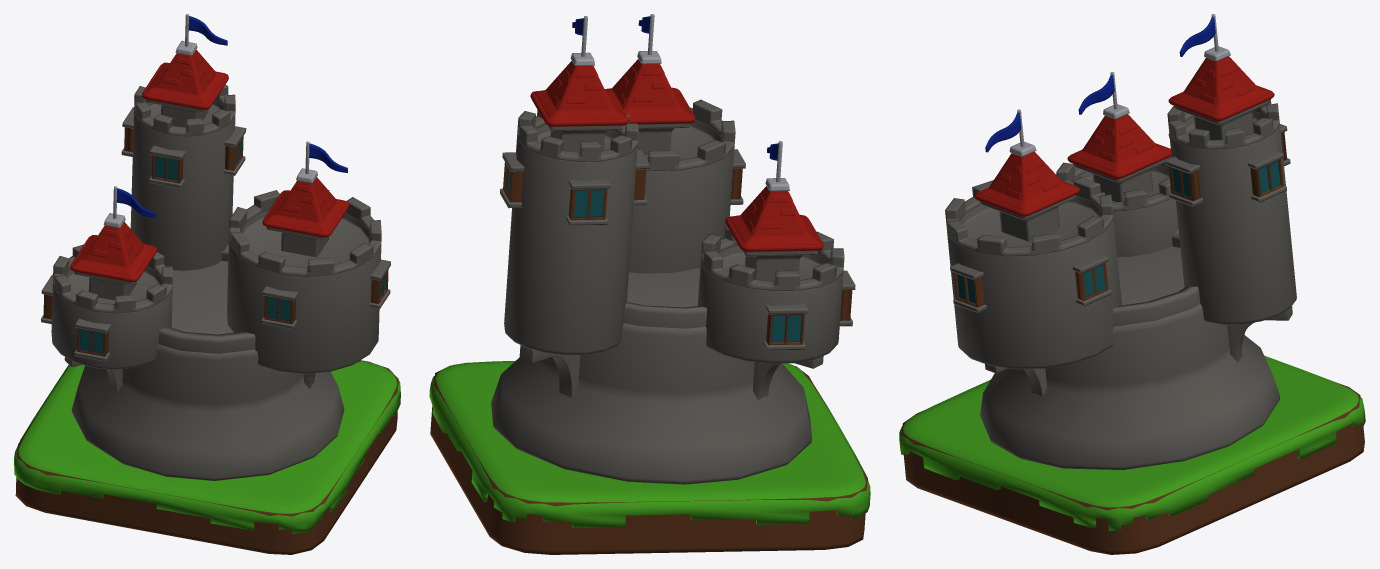
The model's file is castillo_letras.glb.
3 views of the same model, side by side, from view 1: azimuth 30°, elevation 25°; view 2: azimuth 150°, elevation 25°; view 3: azimuth 270°, elevation 25° (orthographic). The views are drawn at different scales.
Visible parts, largest first — view 1: Castle 9.030, Castle 9.020, Castle 9, Castle 9.001, Castle 9.016, Castle 9.011, Castle 9.006, Castle 9.027, Castle 9.005, Castle 9.029, Castle 9.022, Castle 9.010 (+7 smaller); view 2: Castle 9.030, Castle 9.020, Castle 9, Castle 9.001, Castle 9.016, Castle 9.011, Castle 9.006, Castle 9.027, Castle 9.029, Castle 9.010, Castle 9.019, Castle 9.015 (+6 smaller); view 3: Castle 9.030, Castle 9.020, Castle 9, Castle 9.001, Castle 9.006, Castle 9.016, Castle 9.011, Castle 9.005, Castle 9.010, Castle 9.027, Castle 9.029, Castle 9.015 (+6 smaller).
Boxes of the visible parts, left/top/right/bottom form: Castle 9.030: left=51, top=84, right=381, bottom=373; Castle 9.020: left=71, top=243, right=344, bottom=480; Castle 9: left=14, top=360, right=400, bottom=533; Castle 9.001: left=15, top=360, right=398, bottom=554; Castle 9.016: left=142, top=50, right=228, bottom=109; Castle 9.011: left=70, top=222, right=156, bottom=282; Castle 9.006: left=262, top=177, right=349, bottom=237; Castle 9.027: left=121, top=107, right=246, bottom=188; Castle 9.005: left=266, top=227, right=328, bottom=257; Castle 9.029: left=124, top=127, right=243, bottom=183; Castle 9.022: left=261, top=259, right=390, bottom=329; Castle 9.010: left=74, top=271, right=136, bottom=300; Castle 9.030: left=504, top=99, right=844, bottom=363; Castle 9.020: left=491, top=268, right=811, bottom=484; Castle 9: left=429, top=361, right=870, bottom=527; Castle 9.001: left=430, top=365, right=867, bottom=554; Castle 9.016: left=530, top=61, right=628, bottom=126; Castle 9.011: left=725, top=186, right=823, bottom=251; Castle 9.006: left=605, top=59, right=695, bottom=124; Castle 9.027: left=500, top=150, right=649, bottom=225; Castle 9.029: left=503, top=162, right=646, bottom=220; Castle 9.010: left=742, top=250, right=817, bottom=281; Castle 9.019: left=519, top=345, right=580, bottom=397; Castle 9.015: left=547, top=125, right=623, bottom=152; Castle 9.030: left=945, top=99, right=1296, bottom=369; Castle 9.020: left=980, top=229, right=1279, bottom=469; Castle 9: left=899, top=355, right=1365, bottom=530; Castle 9.001: left=901, top=382, right=1364, bottom=554; Castle 9.006: left=974, top=151, right=1080, bottom=216; Castle 9.016: left=1168, top=56, right=1274, bottom=121; Castle 9.011: left=1067, top=114, right=1171, bottom=178; Castle 9.005: left=979, top=195, right=1075, bottom=241; Castle 9.010: left=1073, top=157, right=1169, bottom=201; Castle 9.027: left=1165, top=124, right=1290, bottom=206; Castle 9.029: left=1168, top=132, right=1286, bottom=201; Castle 9.015: left=1174, top=99, right=1270, bottom=139.
Size of the model in its own units: 7.65 by 8.56 by 7.63.
